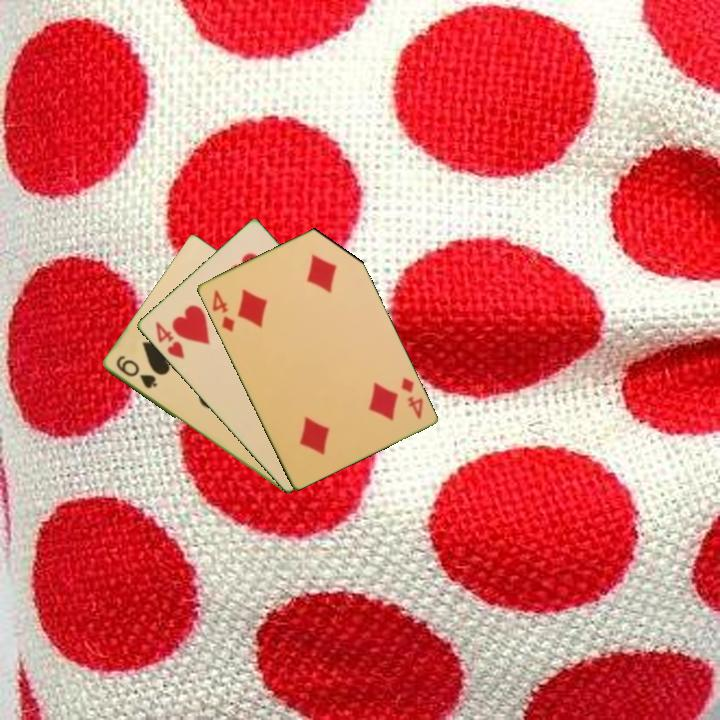4d: (208, 286, 237, 335), (397, 374, 426, 422)
4h: (151, 318, 187, 362)
6s: (112, 352, 160, 392)
